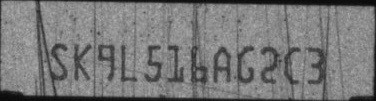1: (168, 43, 185, 81)
2: (260, 45, 279, 85)
3: (306, 46, 325, 84)
5: (142, 44, 161, 82)
6: (189, 43, 209, 82)
9: (97, 42, 116, 81)
A: (212, 44, 231, 83)
C: (284, 45, 301, 84)
G: (236, 44, 255, 83)
K: (72, 42, 91, 81)
L: (120, 43, 139, 82)
S: (48, 42, 66, 80)
